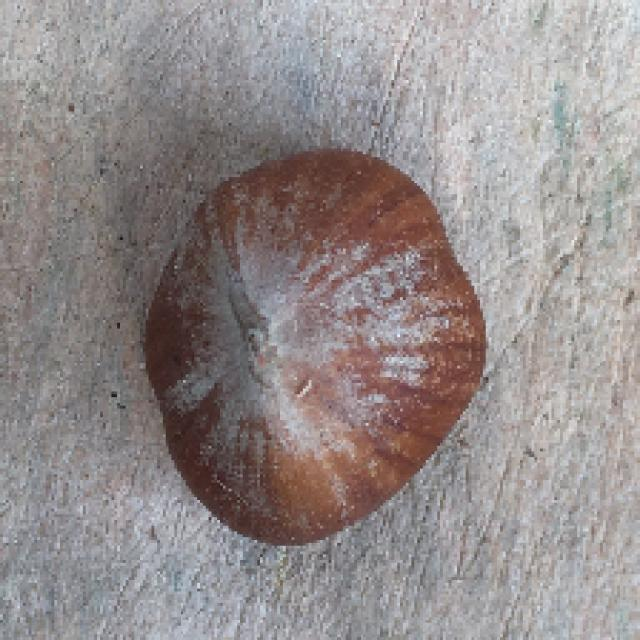QualityHazelnut: (144, 153, 484, 549)
